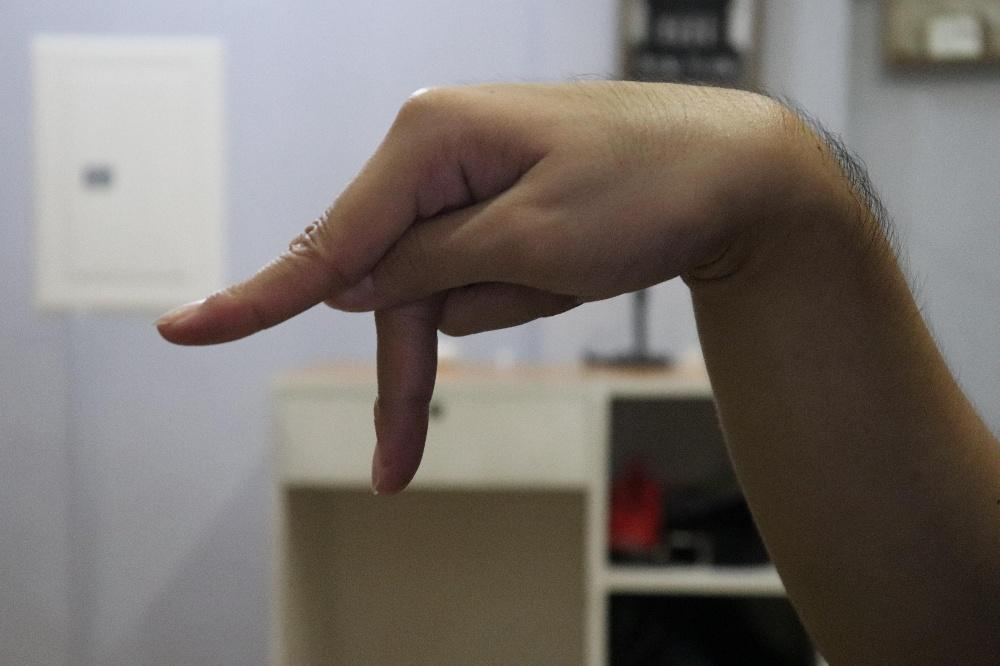p: (155, 78, 792, 495)
